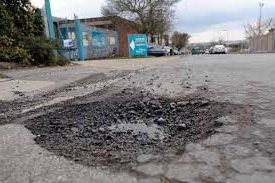pothole: (24, 88, 239, 167)
